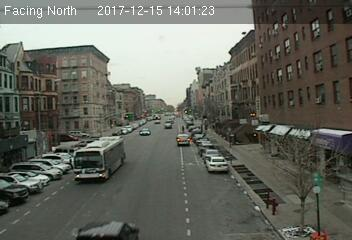bus: (70, 134, 125, 182)
car: (206, 155, 228, 171)
